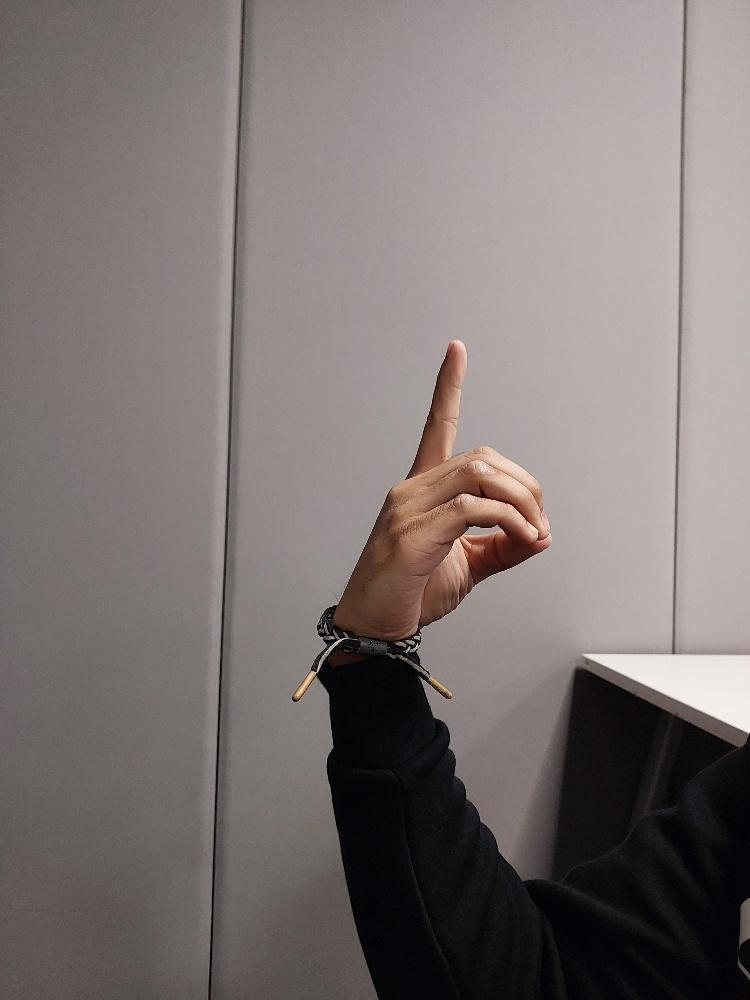d: (330, 336, 554, 641)
